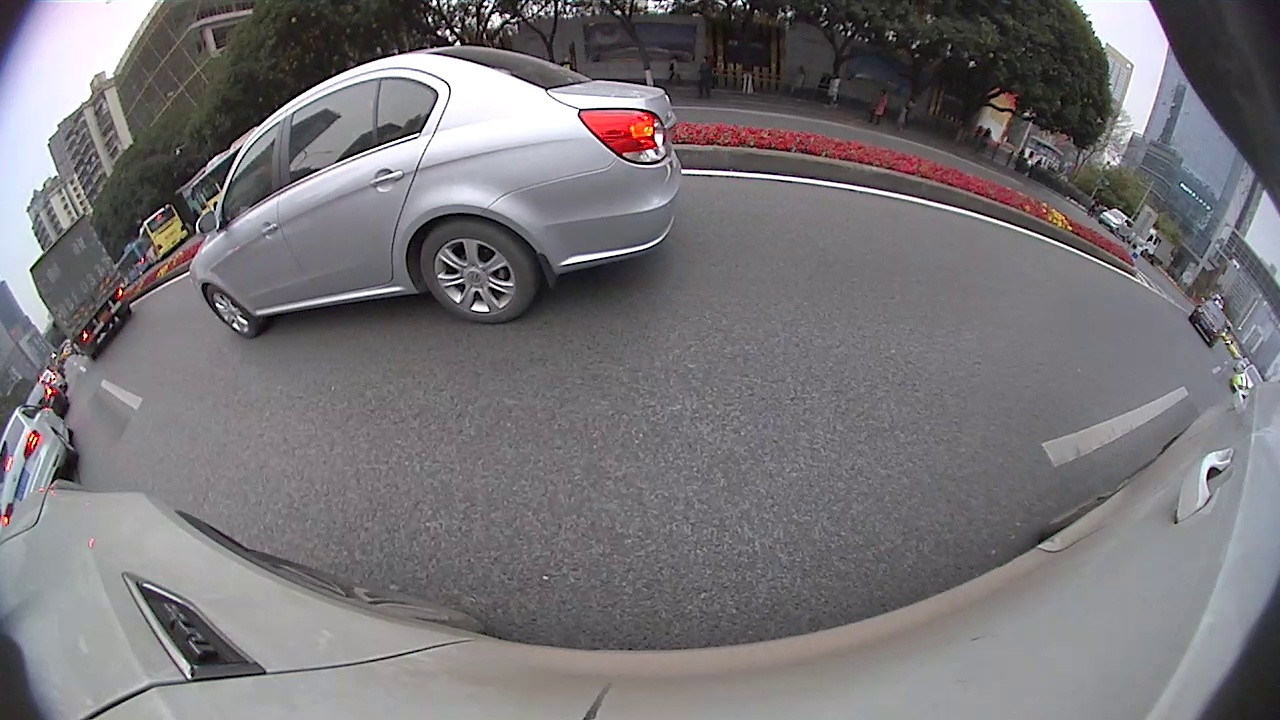bus: (183, 119, 261, 232), (133, 200, 188, 268)
car: (188, 44, 680, 344), (3, 407, 77, 536), (1191, 298, 1231, 347), (23, 383, 68, 420), (1230, 366, 1267, 396)
front: (202, 275, 265, 340)
rear: (415, 211, 542, 326), (53, 427, 75, 456)
truck: (30, 213, 136, 362)
